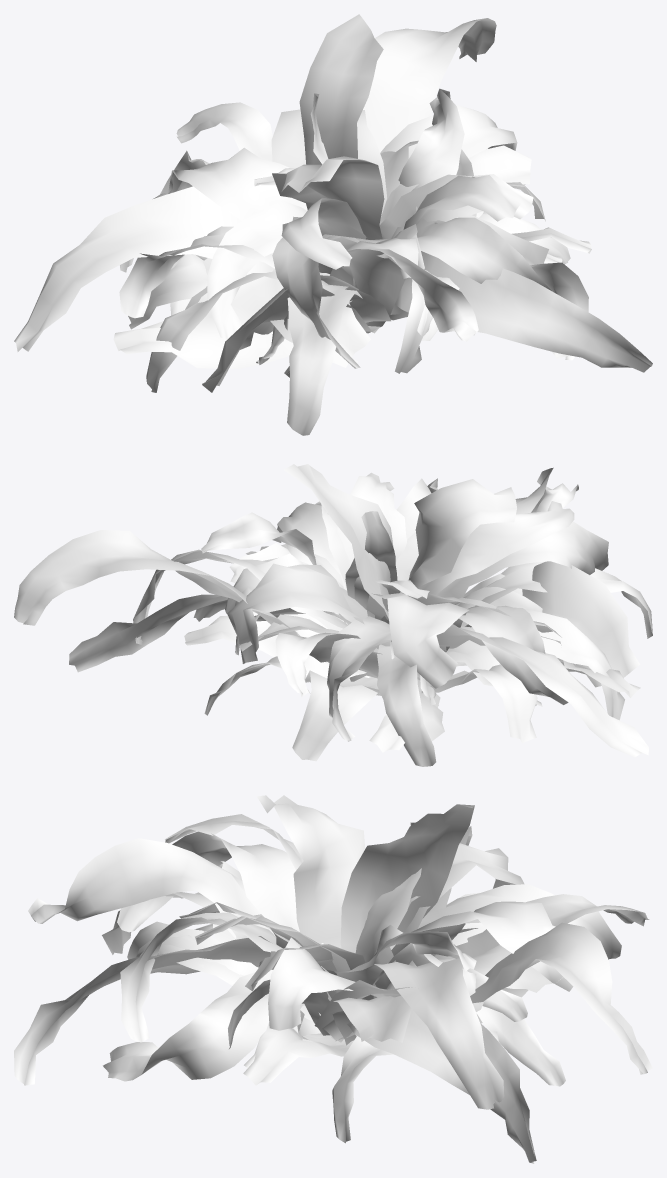
File: fern_02.glb
3 views of the same model, one above another, from view 1: azimuth 30°, elevation 25°; view 2: azimuth 150°, elevation 25°; view 3: azimuth 270°, elevation 25° (orthographic). The views are drawn at different scales.
Visible parts, largest first — view 1: Plane.024, Plane.044, Plane.059, Plane.006; view 2: Plane.024, Plane.044, Plane.006, Plane.059; view 3: Plane.024, Plane.044, Plane.006, Plane.059.
Boxes of the visible parts, x1,y1,x2,y2 form: Plane.024: (14,14,652,435); Plane.044: (113,93,588,377); Plane.059: (171,149,562,364); Plane.006: (170,88,548,340); Plane.024: (14,464,652,761); Plane.044: (69,478,640,766); Plane.006: (201,512,542,713); Plane.059: (229,532,561,752); Plane.024: (14,795,652,1143); Plane.044: (103,814,649,1163); Plane.006: (137,896,565,1086); Plane.059: (179,902,527,1068).
Size of the model in its own units: 0.9897 by 0.4277 by 0.8937.
1 material, 1 textured.
